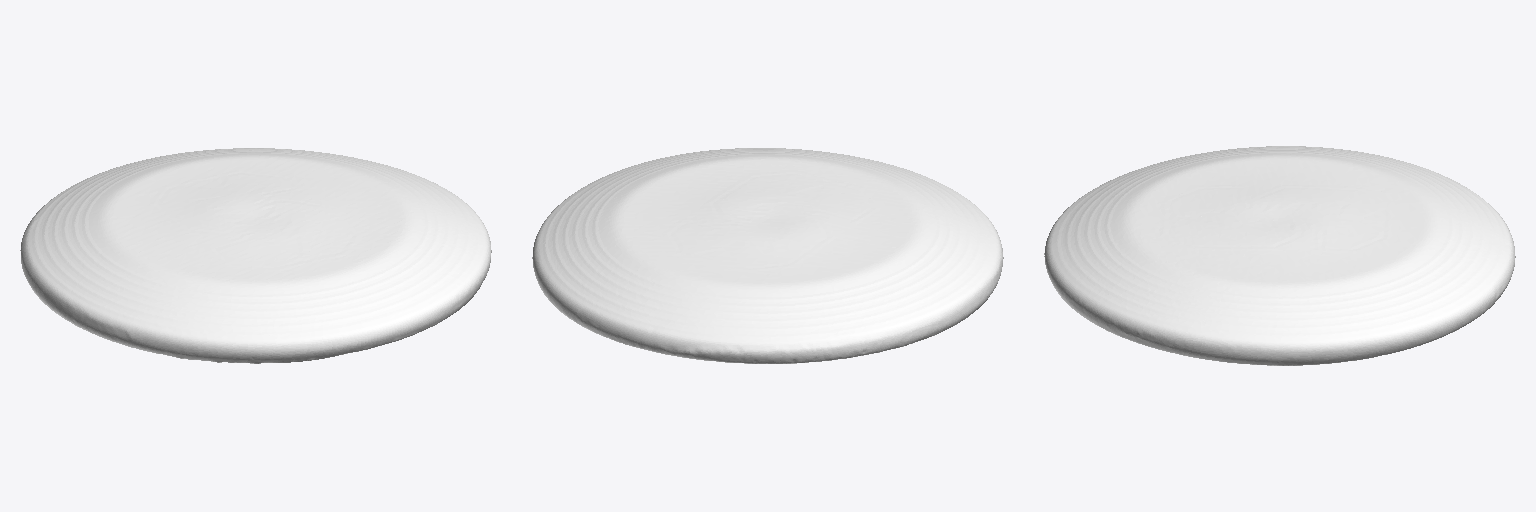
The robot description file, URDF, robot "model.urdf":
<robot name="model.urdf">
    <link name="baseLink">
        <contact>
            <lateral_friction value="0.6"/>
            <rolling_friction value="0.001"/>
            <spinning_friction value="0.001"/>
            <contact_cfm value="0.0"/>
            <contact_erp value="1.0"/>
        </contact>
        <inertial>
            <origin rpy="0 0 0" xyz="0 0.0 0.0"/>
            <mass value="1.5"/>
            <inertia ixx="1e-3" ixy="0" ixz="0" iyy="1e-3" iyz="0" izz="1e-3"/>
        </inertial>
        <visual>
            <geometry>
                <mesh filename="nontextured.stl" scale="1 1 1"/>
            </geometry>
            <material name="white">
                <color rgba="1 1 1 1"/>
            </material>
        </visual>
        <collision>
            <geometry>
                <mesh filename="nontextured.stl" scale="1 1 1"/>
            </geometry>
        </collision>
    </link>
</robot>

--- Facts derived from the render (not from the file) ---
The picture shows the robot from 3 angles, left to right: view 1: azimuth 30°, elevation 25°; view 2: azimuth 150°, elevation 25°; view 3: azimuth 270°, elevation 25°; orthographic projection.
Robot: model.urdf — 1 links, 0 joints (none); root link baseLink; default pose: every joint at zero.
Visible links, largest first — view 1: baseLink; view 2: baseLink; view 3: baseLink.
Boxes of the visible links, bbox=[...] form: baseLink: bbox=[20, 148, 491, 363]; baseLink: bbox=[532, 148, 1003, 363]; baseLink: bbox=[1044, 146, 1515, 365].
Size in the robot's own frame: 0.2343 by 0.2339 by 0.0288 metres.
1 mesh visuals loaded from 1 distinct referenced files (1 binary STL).